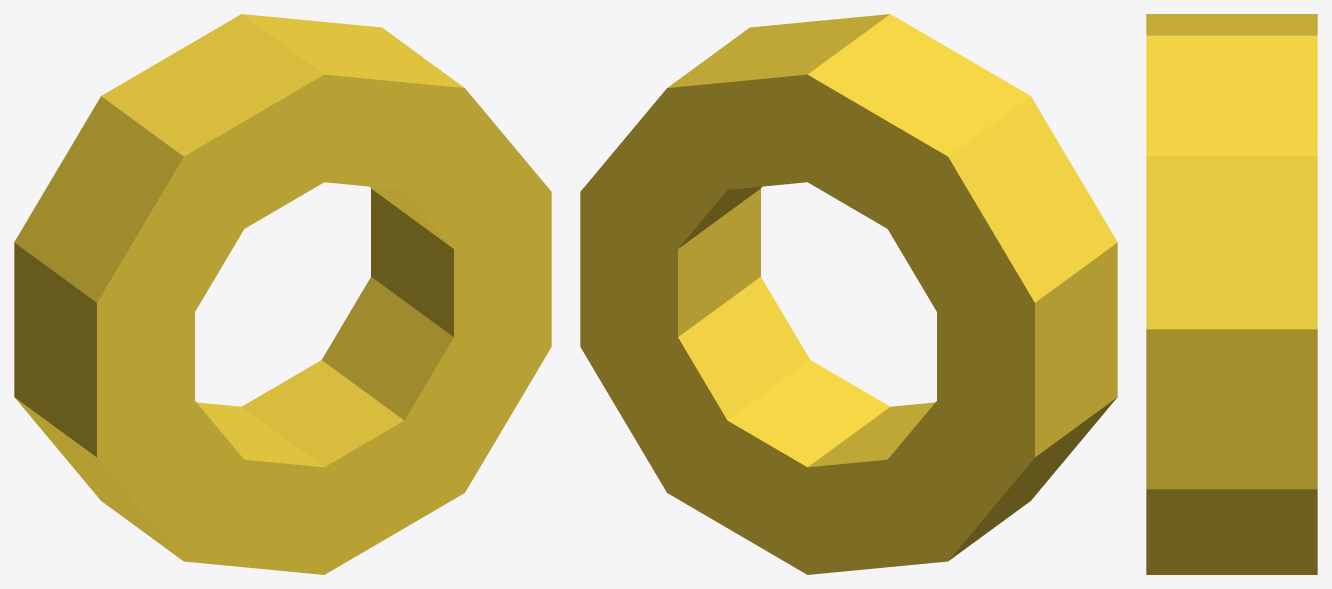
File: PMesh.fbx
3 views of the same model, side by side, from view 1: azimuth 30°, elevation 25°; view 2: azimuth 150°, elevation 25°; view 3: azimuth 270°, elevation 25° (orthographic). The views are drawn at different scales.
Parts seen in each view (by area): view 1: PickupMesh; view 2: PickupMesh; view 3: PickupMesh.
Part boxes in pixels (x1,y1,x2,y2): PickupMesh: [14, 14, 551, 574]; PickupMesh: [580, 14, 1117, 574]; PickupMesh: [1146, 14, 1317, 574].
Size of the model in its own units: 0.3329 by 0.35 by 0.105.
Materials: 1 (1 with a texture image).
